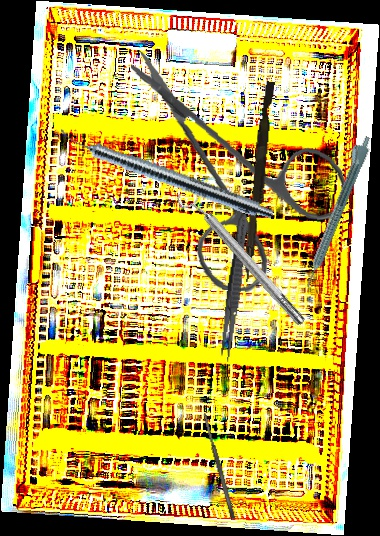Dressing Forceps: (217, 212, 252, 363)
Fixation Ring: (172, 179, 313, 334)
Handpiece: (55, 124, 277, 224), (296, 132, 374, 290)
Iris Scissors: (112, 50, 354, 300)
Pusher: (243, 80, 275, 284)
Spatula Surgical: (201, 412, 237, 520)
